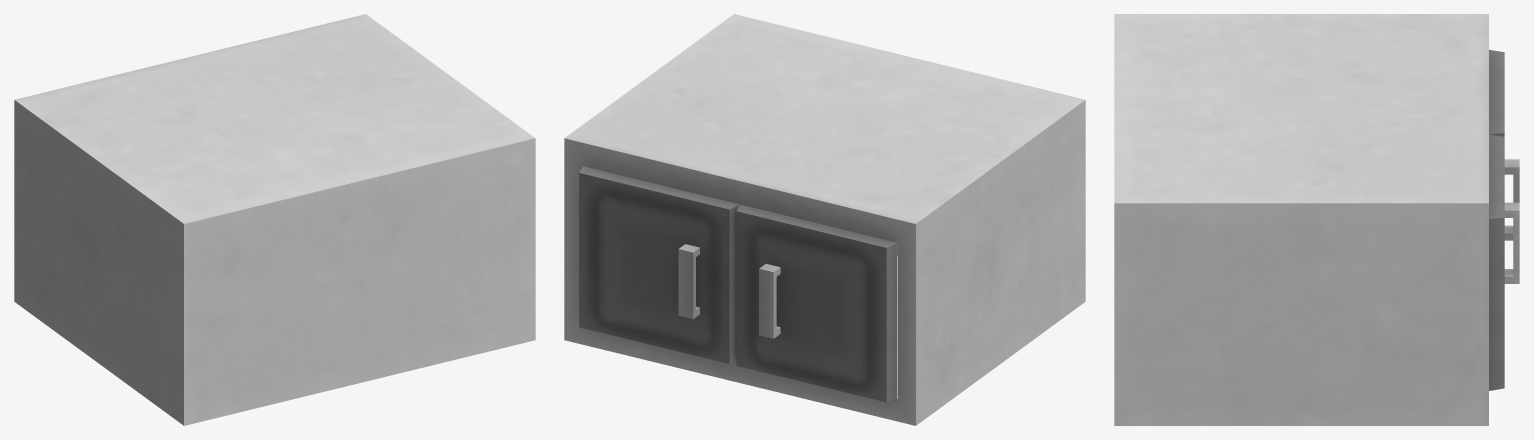
Rendered from Pfb_Kitchen__2.fbx.
3 renders of one model, left to right at view 1: azimuth 30°, elevation 25°; view 2: azimuth 150°, elevation 25°; view 3: azimuth 270°, elevation 25°, orthographic. The views are drawn at different scales.
Parts seen in each view (by area): view 1: MAT_Kitchen; view 2: MAT_Kitchen; view 3: MAT_Kitchen.
Part boxes in pixels (x1,y1,x2,y2): MAT_Kitchen: (14,14,535,425); MAT_Kitchen: (564,14,1085,425); MAT_Kitchen: (1114,14,1519,425).
Bounding box in the file's own units: 0.7645 × 0.4196 × 0.6922.
Materials: 1 (1 with a texture image).
